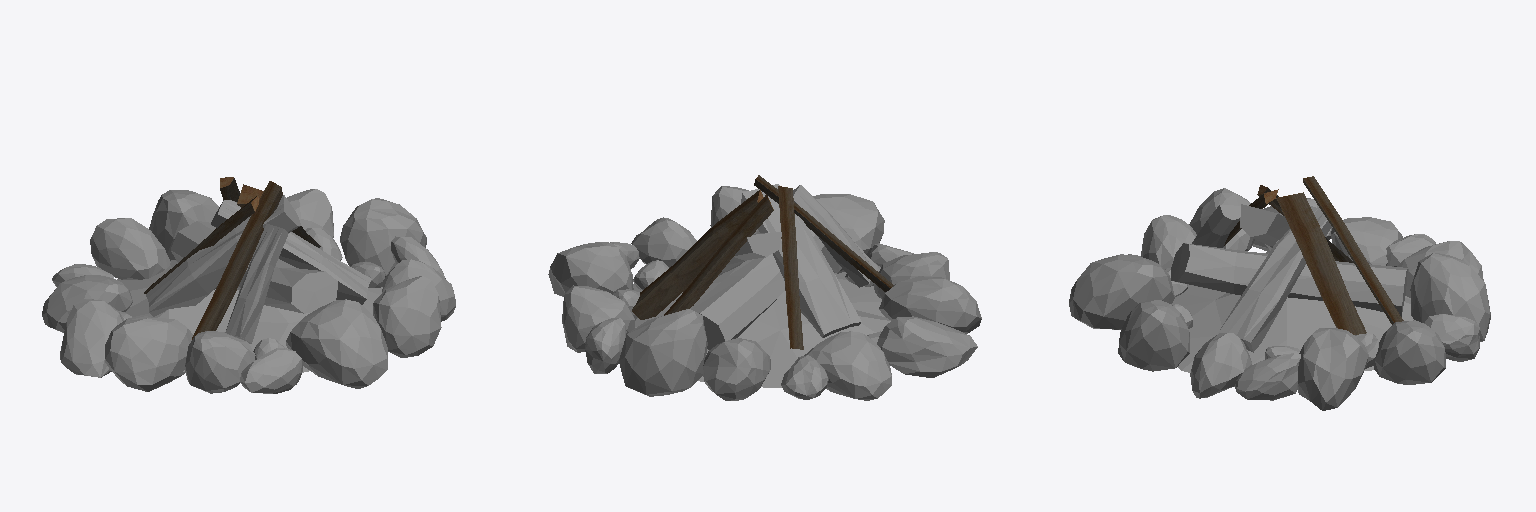
The picture shows the model from 3 angles: view 1: azimuth 30°, elevation 25°; view 2: azimuth 150°, elevation 25°; view 3: azimuth 270°, elevation 25°; orthographic projection.
Visible parts, largest first — view 1: GeoSphere010_Mesh.016, GeoSphere005_Mesh.021, half_wood_Mesh.027, GeoSphere008_Mesh.018, GeoSphere009_Mesh.017, Cylinder004_Mesh.026, GeoSphere002_Mesh.024, ashes_Mesh, GeoSphere017_Mesh.010, GeoSphere006_Mesh.020, half_wood3_Mesh.033, quad_wood1_Mesh.031 (+10 smaller); view 2: rock_Mesh.023, ashes_Mesh, Cylinder004_Mesh.026, half_wood_Mesh.027, GeoSphere017_Mesh.010, GeoSphere003_Mesh.022, GeoSphere005_Mesh.021, quad_wood4_Mesh.029, GeoSphere009_Mesh.017, GeoSphere002_Mesh.024, GeoSphere004_Mesh.025, GeoSphere010_Mesh.016 (+11 smaller); view 3: Cylinder004_Mesh.026, ashes_Mesh, GeoSphere010_Mesh.016, half_wood2_Mesh.028, rock_Mesh.023, GeoSphere009_Mesh.017, GeoSphere008_Mesh.018, quad_wood4_Mesh.029, GeoSphere004_Mesh.025, GeoSphere007_Mesh.019, GeoSphere018_Mesh.009, quad_wood3_Mesh.030 (+8 smaller).
Part boxes in pixels (x1,y1,x2,y2): GeoSphere010_Mesh.016: (286, 299, 387, 388); GeoSphere005_Mesh.021: (105, 316, 192, 391); half_wood_Mesh.027: (146, 195, 300, 316); GeoSphere008_Mesh.018: (373, 276, 441, 357); GeoSphere009_Mesh.017: (340, 198, 426, 276); Cylinder004_Mesh.026: (171, 221, 337, 313); GeoSphere002_Mesh.024: (90, 218, 170, 279); ashes_Mesh: (117, 260, 382, 372); GeoSphere017_Mesh.010: (60, 299, 124, 377); GeoSphere006_Mesh.020: (184, 331, 255, 393); half_wood3_Mesh.033: (225, 223, 288, 343); quad_wood1_Mesh.031: (192, 181, 282, 339); rock_Mesh.023: (619, 309, 707, 396); ashes_Mesh: (633, 267, 890, 387); Cylinder004_Mesh.026: (690, 228, 823, 349); half_wood_Mesh.027: (741, 184, 861, 337); GeoSphere017_Mesh.010: (877, 316, 977, 377); GeoSphere003_Mesh.022: (804, 331, 891, 400); GeoSphere005_Mesh.021: (879, 276, 981, 333); quad_wood4_Mesh.029: (632, 190, 767, 319); GeoSphere009_Mesh.017: (548, 242, 633, 296); GeoSphere002_Mesh.024: (703, 338, 770, 400); GeoSphere004_Mesh.025: (562, 285, 635, 352); GeoSphere010_Mesh.016: (813, 194, 884, 273); Cylinder004_Mesh.026: (1171, 243, 1407, 316); ashes_Mesh: (1171, 252, 1413, 372); GeoSphere010_Mesh.016: (1069, 254, 1174, 329); half_wood2_Mesh.028: (1217, 206, 1331, 352); rock_Mesh.023: (1410, 253, 1490, 341); GeoSphere009_Mesh.017: (1298, 328, 1368, 410); GeoSphere008_Mesh.018: (1118, 300, 1189, 371); quad_wood4_Mesh.029: (1276, 192, 1366, 334); GeoSphere004_Mesh.025: (1374, 320, 1445, 384); GeoSphere007_Mesh.019: (1190, 333, 1251, 398); GeoSphere018_Mesh.009: (1235, 353, 1300, 400); quad_wood3_Mesh.030: (1303, 176, 1403, 324).
Bounding box in the file's own units: 0.8694 × 0.3136 × 0.8216.
Materials: 5 (1 with a texture image).